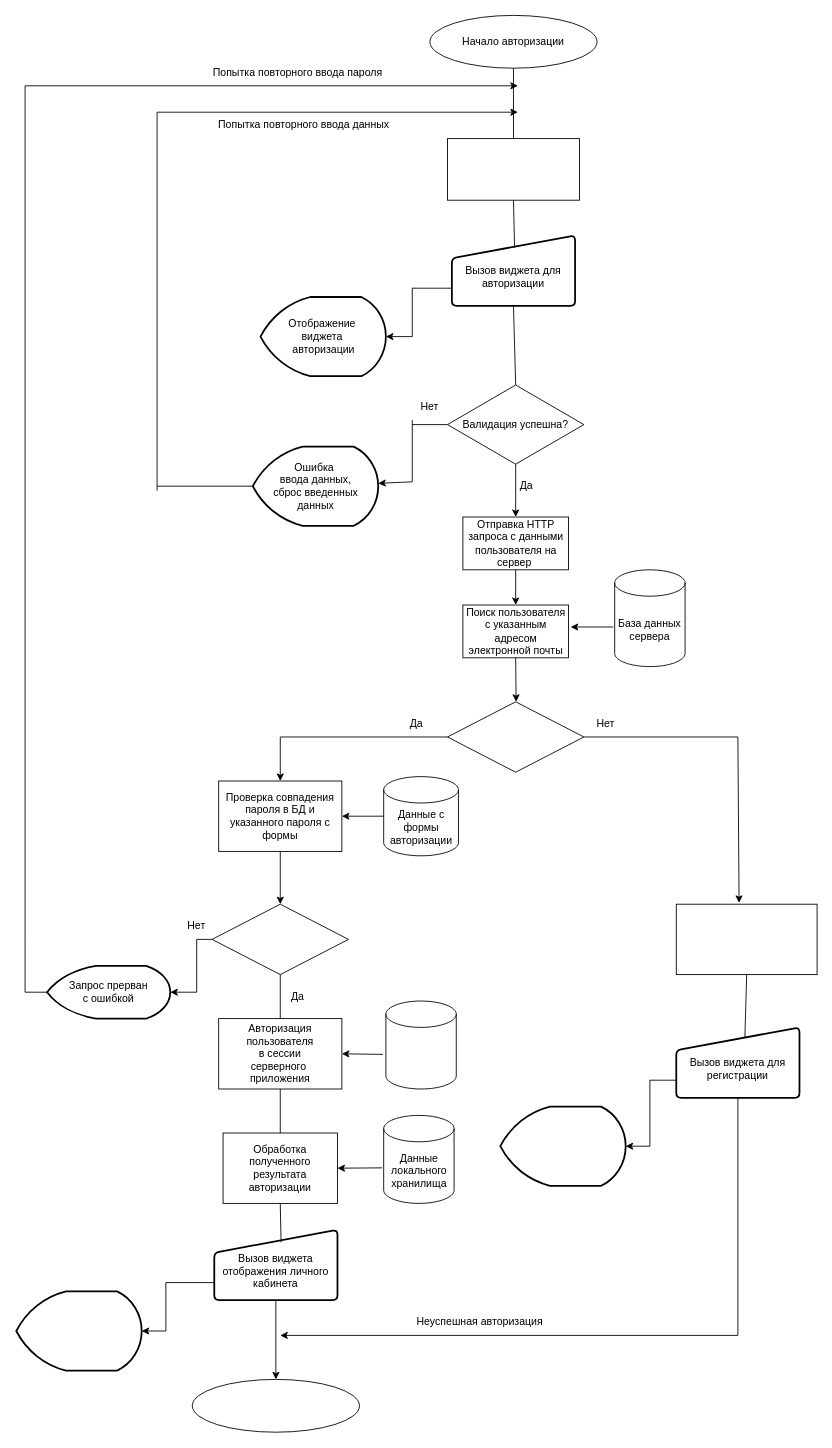
The diagram is 832 pixels wide and 1448 high, and some of its shapes have lost their labels. The box of each missing label's shape, as (x1, y1, x2, y2) in pixels:
Конец процесса авторизации: (191, 1379, 359, 1432)
Кэш сессии сервера: (385, 1000, 456, 1089)
Отображение виджета ЛК пользователя: (15, 1290, 142, 1371)
Отображение виджета регистрации: (499, 1105, 626, 1186)
Пароли совпадают?: (211, 903, 348, 975)
Перенаправление пользователя на процесс регистрации: (675, 903, 817, 975)
Пользователь найден в БД?: (447, 701, 584, 772)
Процесс ввода авторизационных данных пользователя: (447, 138, 579, 200)
